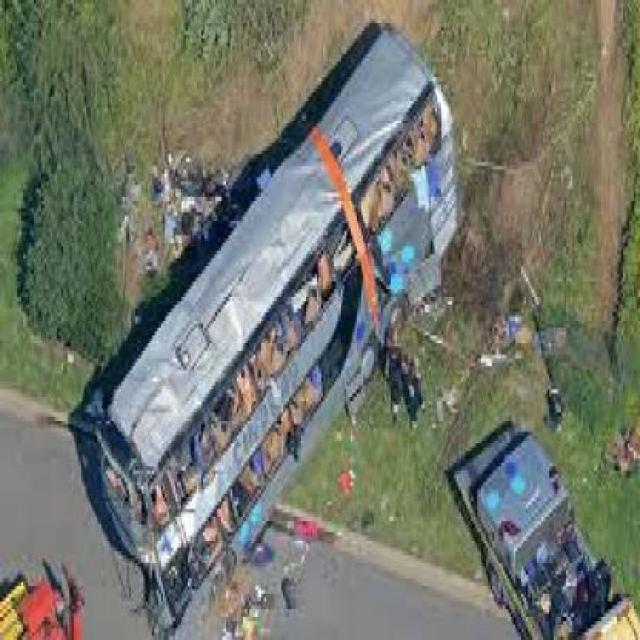accident: (90, 29, 467, 640)
